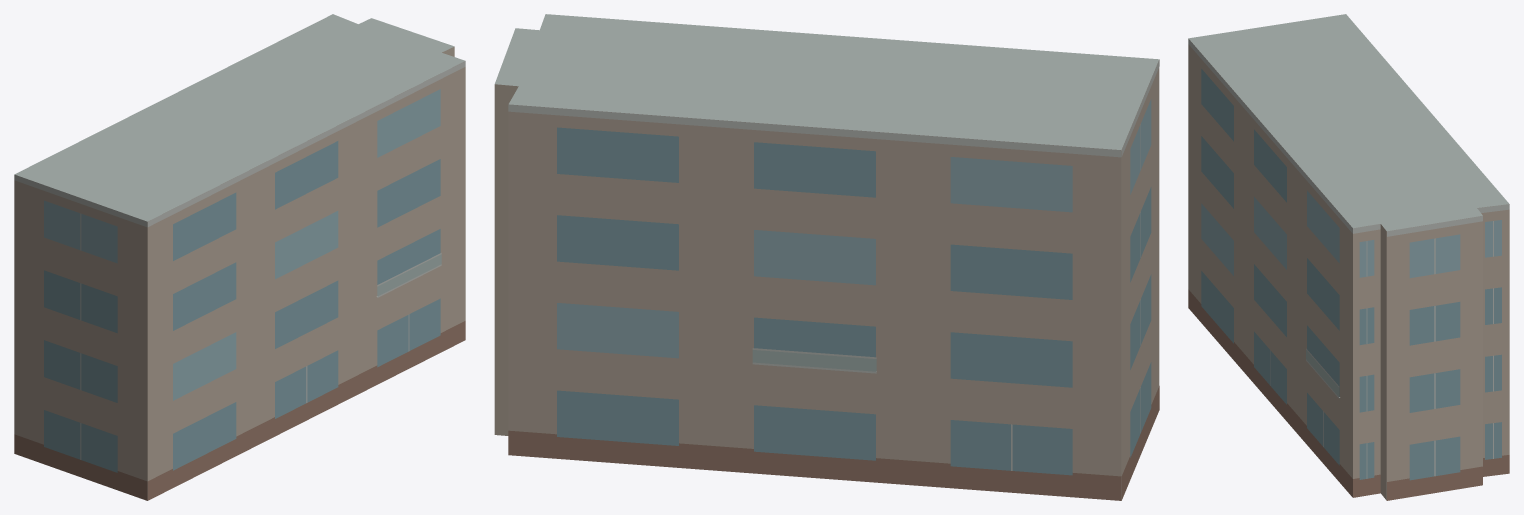
Rendered from survey-upis-32865647.glb.
3 renders of one model, left to right at view 1: azimuth 30°, elevation 25°; view 2: azimuth 150°, elevation 25°; view 3: azimuth 270°, elevation 25°, orthographic. The views are drawn at different scales.
Parts seen in each view (by area): view 1: survey-upis-32865647.tmp; view 2: survey-upis-32865647.tmp; view 3: survey-upis-32865647.tmp.
Boxes of the visible parts, x1=… form: survey-upis-32865647.tmp: x1=14, y1=14, x2=465, y2=500; survey-upis-32865647.tmp: x1=494, y1=14, x2=1159, y2=500; survey-upis-32865647.tmp: x1=1188, y1=14, x2=1509, y2=500.
Bounding box in the file's own units: 20.42 × 11.8 × 12.76.
